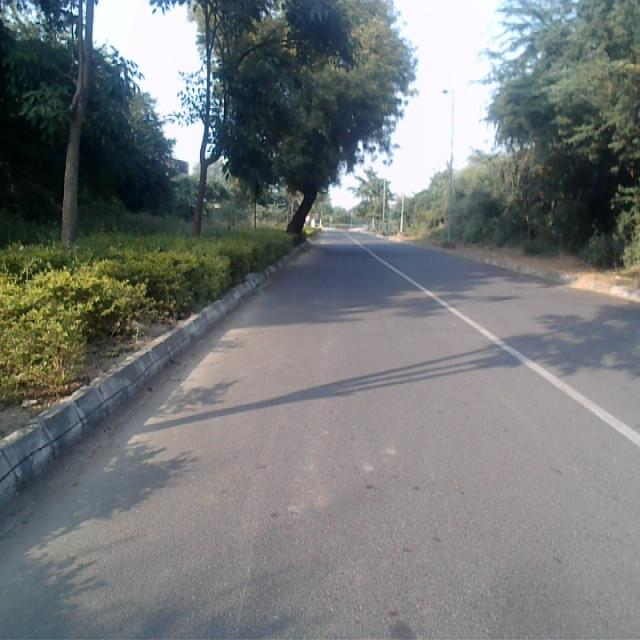lane: (0, 233, 640, 640)
